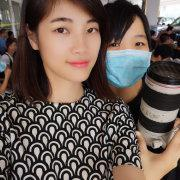NONE: (42, 14, 103, 84), (10, 45, 18, 54)
OK: (105, 31, 160, 86)
